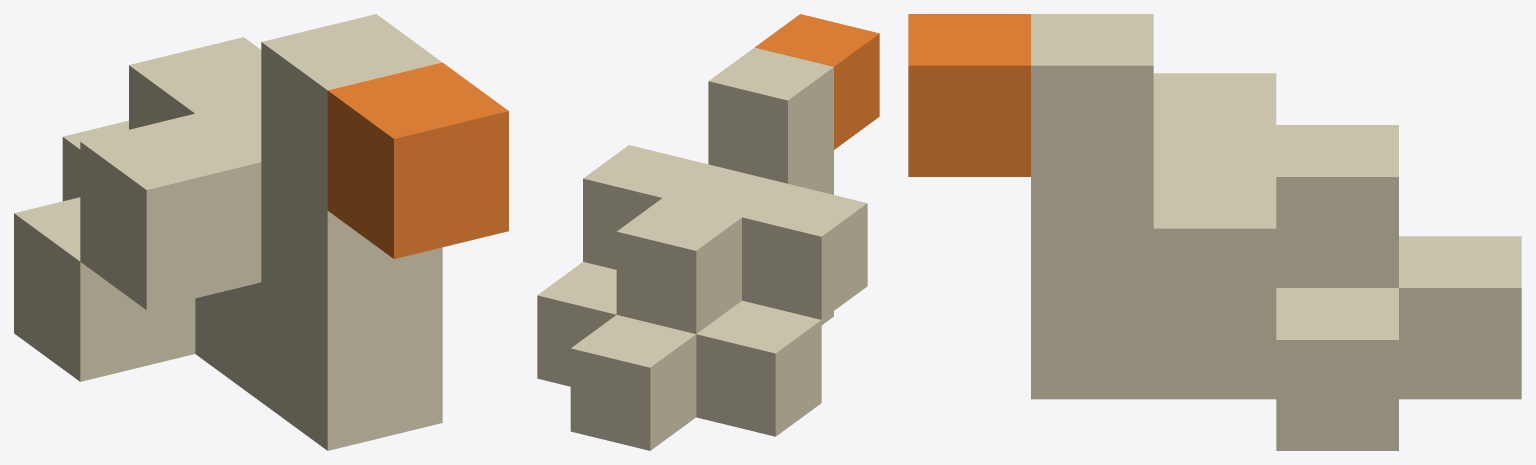
The model's file is Animal_Bird_Dove_01.obj.
3 views of the same model, side by side, from view 1: azimuth 30°, elevation 25°; view 2: azimuth 150°, elevation 25°; view 3: azimuth 270°, elevation 25° (orthographic). The views are drawn at different scales.
Bounding box in the file's own units: 0.3 × 0.3 × 0.5.
1 material, 1 textured.
